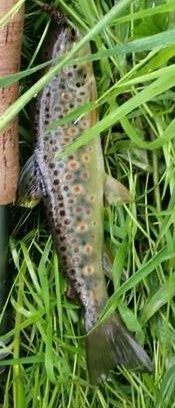Salmo trutta subsp. fario: (20, 20, 155, 388)
